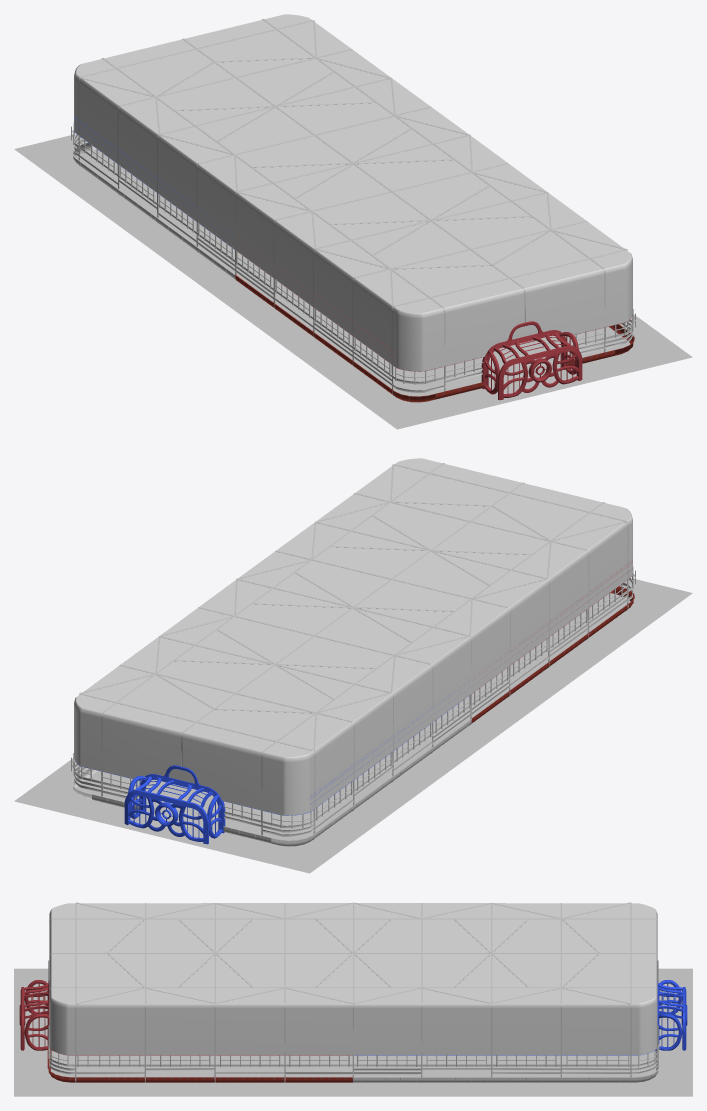
Rendered from Arena_Desert.fbx.
3 renders of one model, top to bottom at view 1: azimuth 30°, elevation 25°; view 2: azimuth 150°, elevation 25°; view 3: azimuth 270°, elevation 25°, orthographic. The views are drawn at different scales.
Visible parts, largest first — view 1: Top, Walls, Floor, Grid_Red_Desert1; view 2: Top, Walls, Floor, Grid_Blue_Desert; view 3: Top, Walls, Floor, Grid_Blue_Desert, Grid_Red_Desert1.
Part boxes in pixels (x1=…): Top: x1=76, y1=14, x2=630, y2=313; Walls: x1=71, y1=19, x2=635, y2=402; Floor: x1=14, y1=134, x2=692, y2=429; Grid_Red_Desert1: x1=481, y1=321, x2=582, y2=400; Top: x1=76, y1=458, x2=630, y2=757; Walls: x1=71, y1=463, x2=635, y2=846; Floor: x1=14, y1=578, x2=692, y2=873; Grid_Blue_Desert: x1=124, y1=765, x2=225, y2=844; Top: x1=51, y1=902, x2=655, y2=1004; Walls: x1=47, y1=907, x2=659, y2=1082; Floor: x1=14, y1=968, x2=692, y2=1096; Grid_Blue_Desert: x1=655, y1=980, x2=687, y2=1050; Grid_Red_Desert1: x1=19, y1=980, x2=51, y2=1050.
Size of what is drawn, in the model's own units: 9211 by 2692 by 20662.
